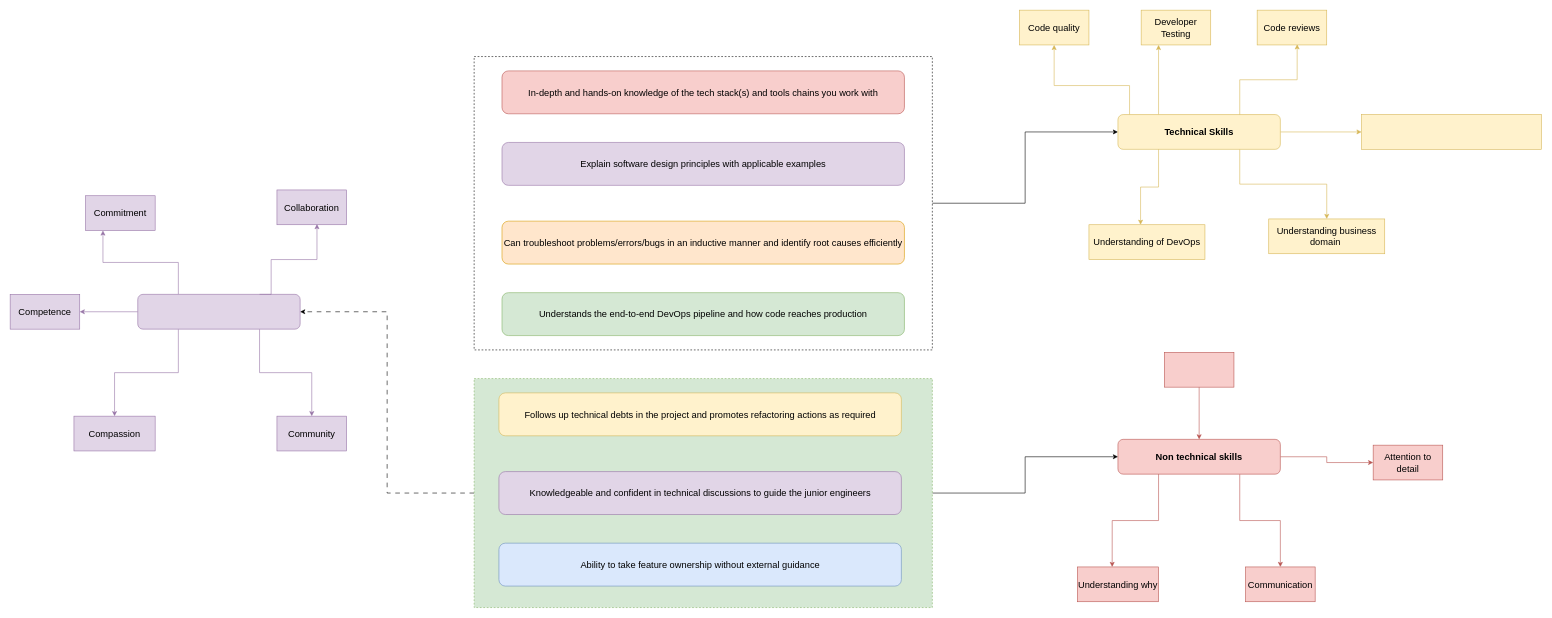
Some shapes in this 1552 by 618 pixel diagram are drawn without their labels. Here are the shapes that lost their labels. From the top down, the box of each, then its label:
(1361, 114, 1541, 149): Understanding of software engineering fundamentals
(137, 294, 300, 329): Values
(1164, 352, 1234, 387): Prioritization
